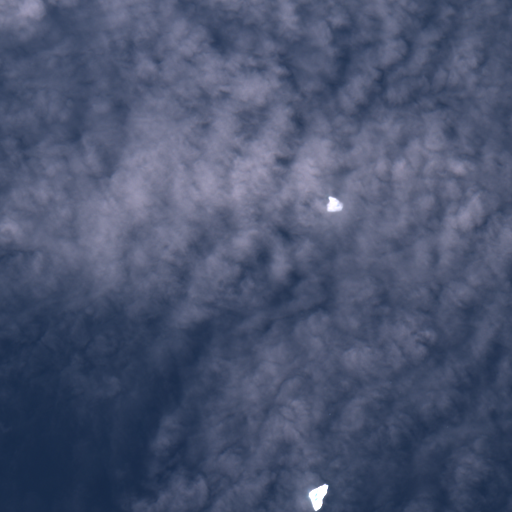Iceberg: (308, 483, 328, 510), (326, 196, 342, 211)
